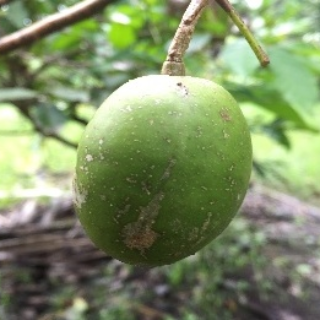coc: (74, 72, 252, 269)
